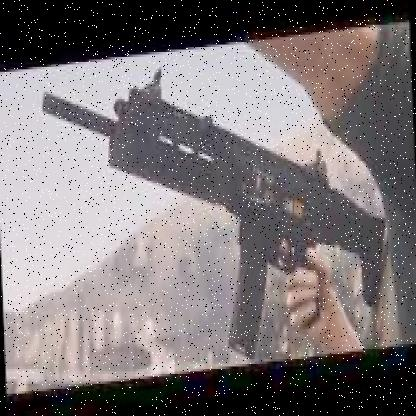rifle: (38, 37, 388, 381)
